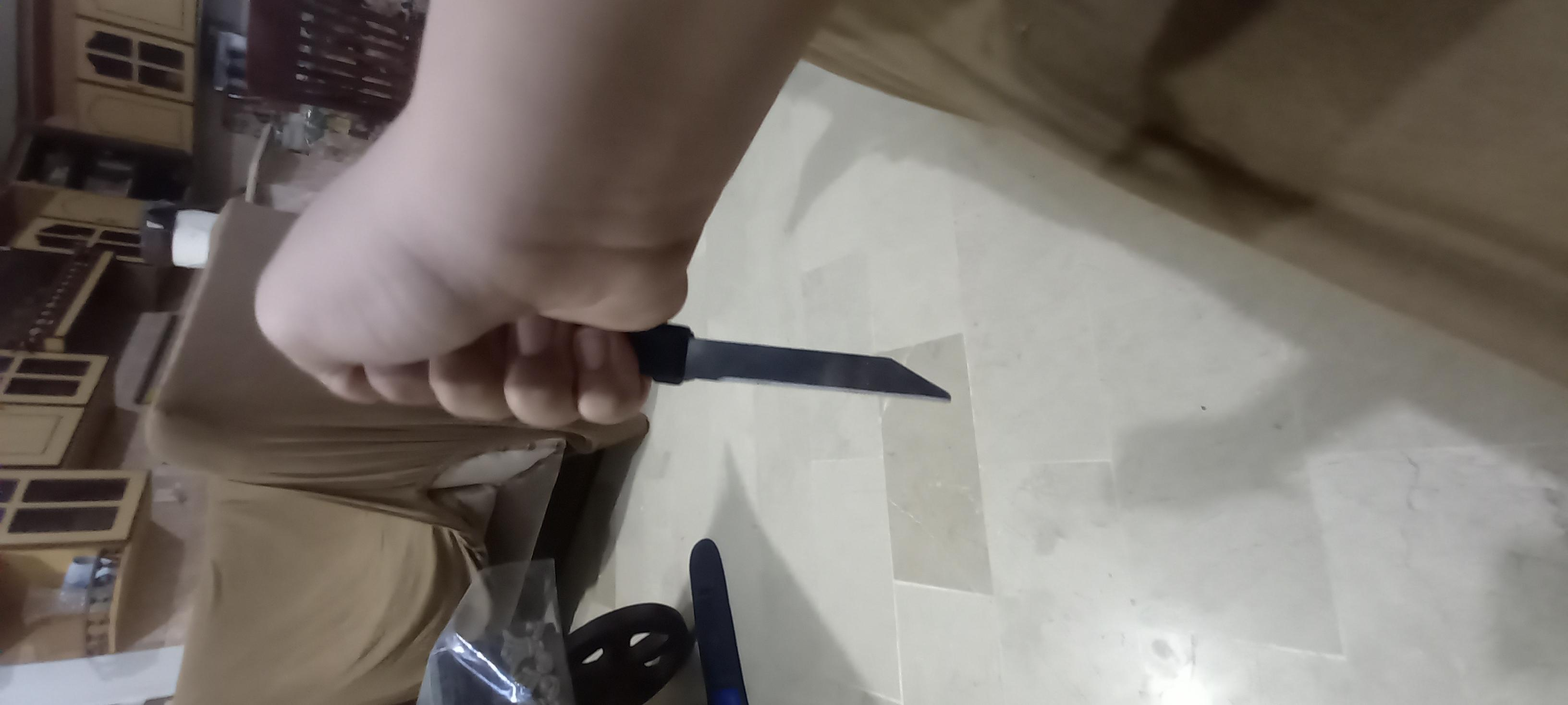knives: (636, 186, 898, 444)
